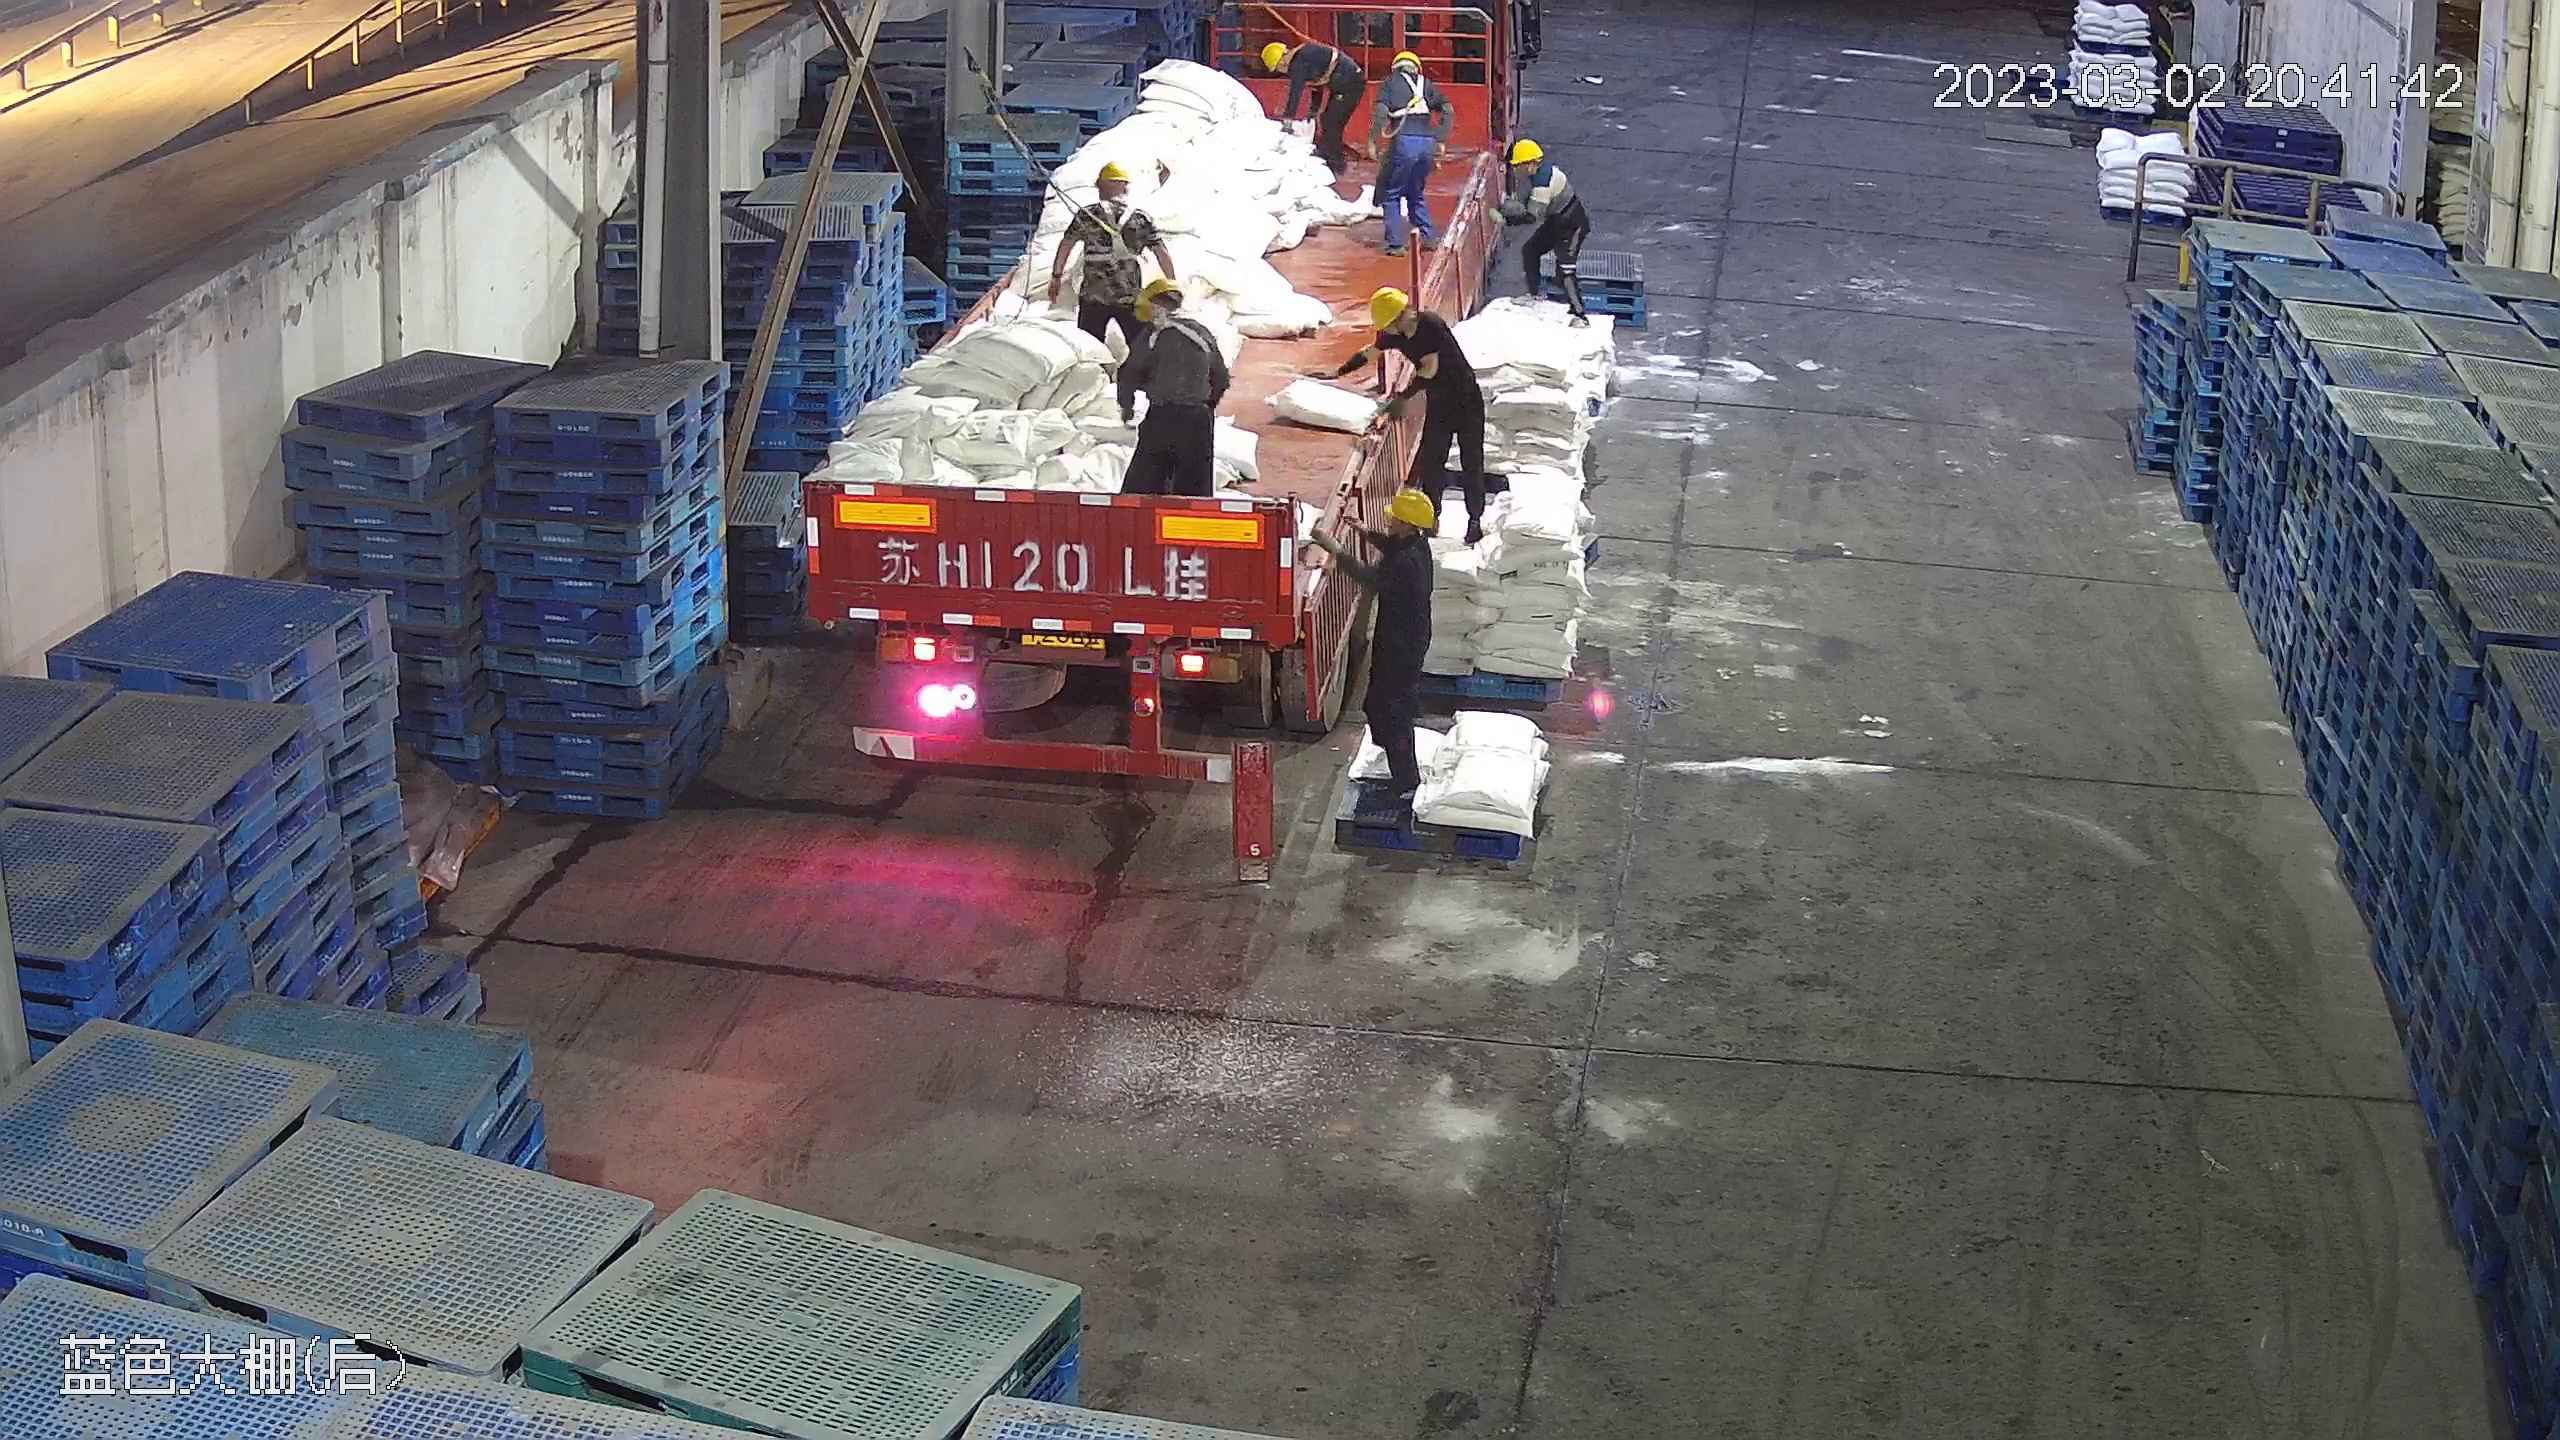belt: (1146, 314, 1228, 384), (1383, 63, 1438, 124), (1081, 205, 1140, 262), (1290, 39, 1349, 87)
head: (1126, 272, 1223, 357), (1360, 485, 1439, 584), (1364, 284, 1452, 364), (1070, 160, 1150, 233), (1374, 42, 1443, 99), (1503, 137, 1570, 196), (1257, 37, 1327, 83)
helmet: (1379, 485, 1440, 529), (1365, 284, 1410, 331), (1134, 273, 1182, 316), (1509, 136, 1543, 165), (1092, 159, 1131, 185), (1257, 39, 1285, 67), (1390, 44, 1421, 69)
people: (1345, 281, 1494, 552), (1341, 486, 1440, 802), (1115, 271, 1231, 498), (1053, 156, 1164, 373), (1485, 135, 1589, 325), (1364, 43, 1448, 258), (1258, 31, 1369, 184)
truck: (799, 9, 1526, 786)
